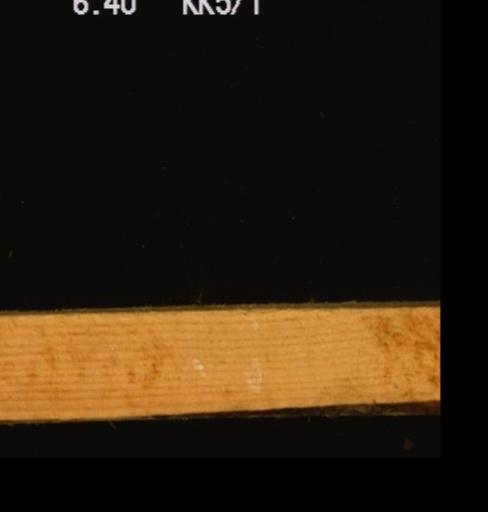wave: (157, 396, 439, 419)
